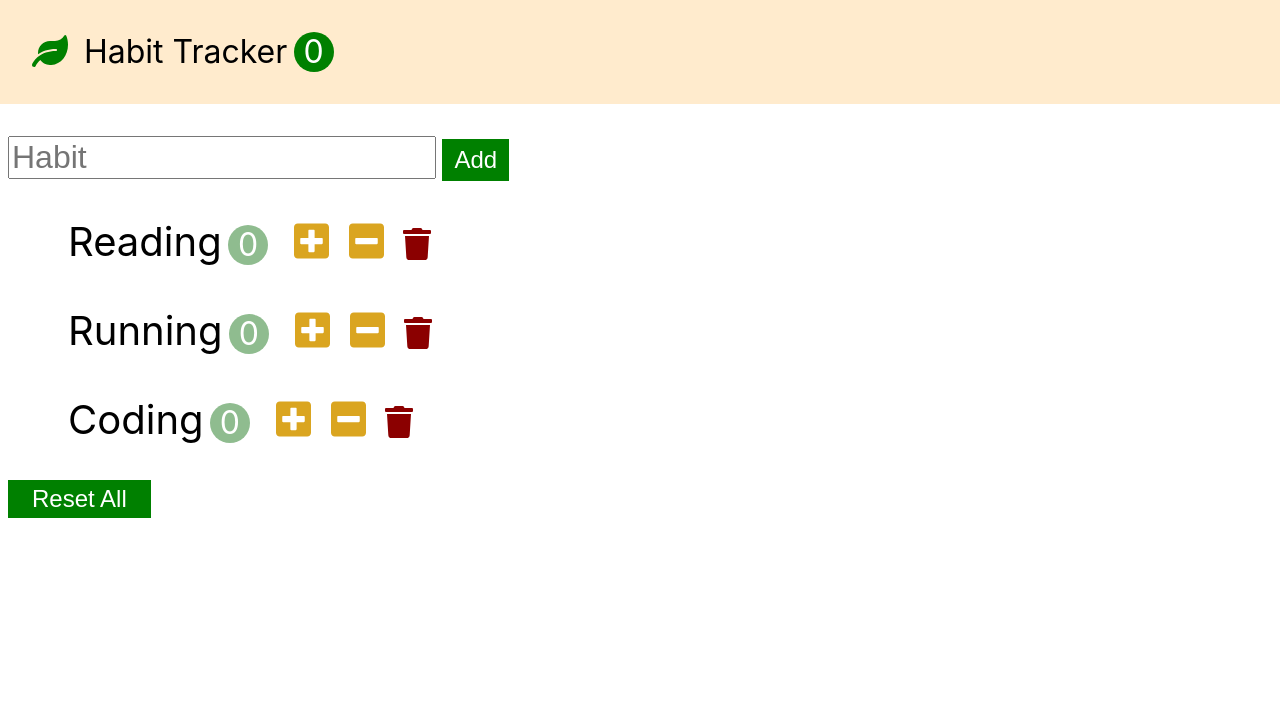
Scenario: Habit Tracker › decreases count
The image size is (1280, 720).
Click the button titled "increase" in the row of "Reading".
click(312, 243)  # box [288,219,335,266]
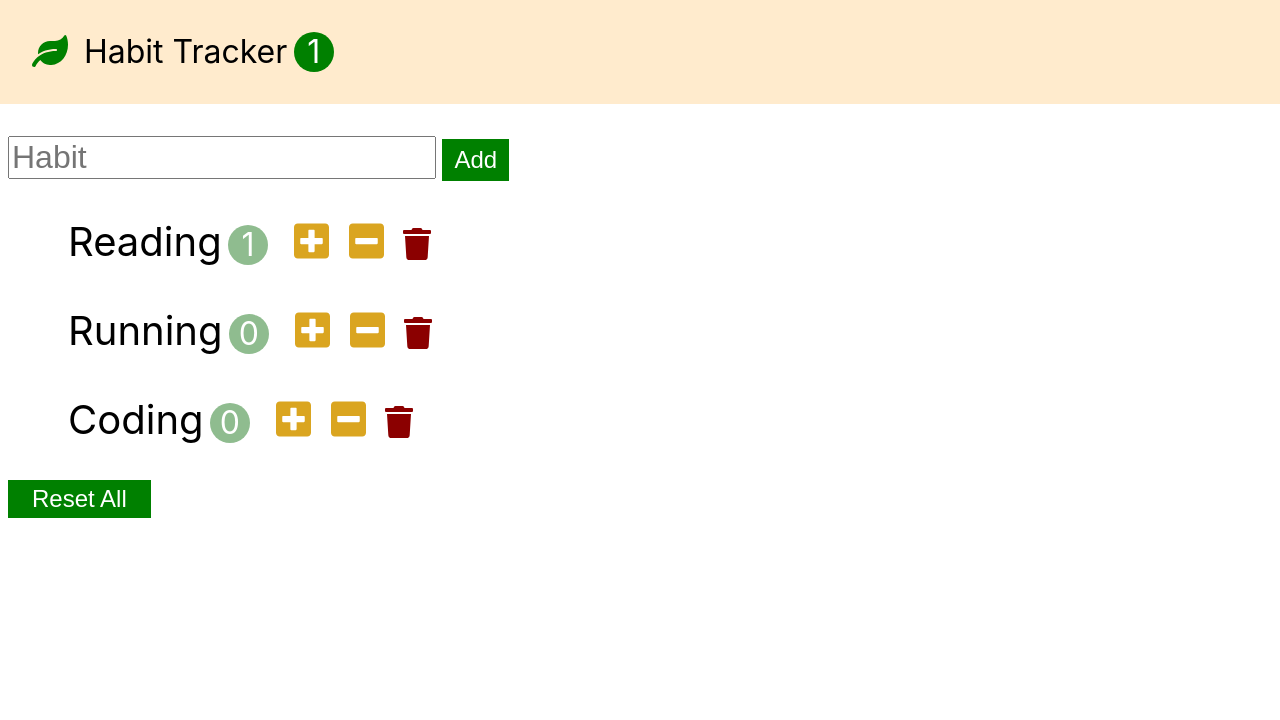
Click the button titled "increase" in the row of "Reading".
click(312, 243)  # box [288,219,335,266]
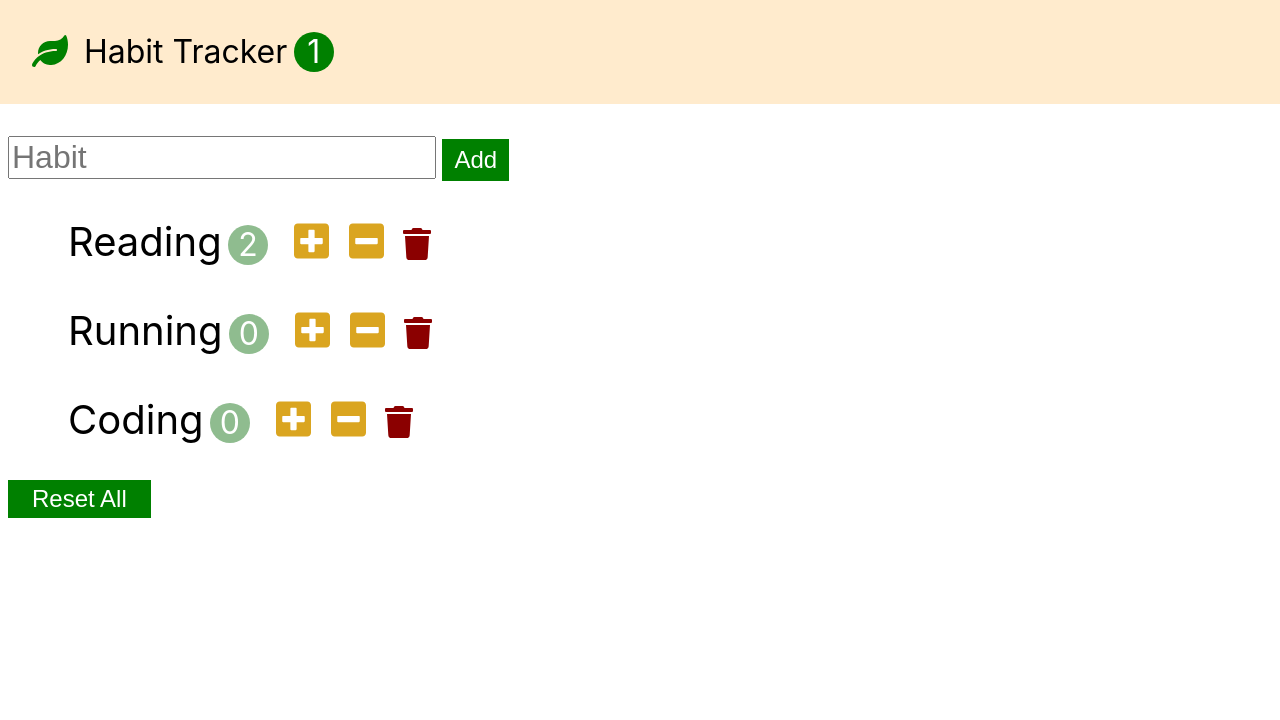
Click the button titled "increase" in the row of "Reading".
click(312, 243)  # box [288,219,335,266]
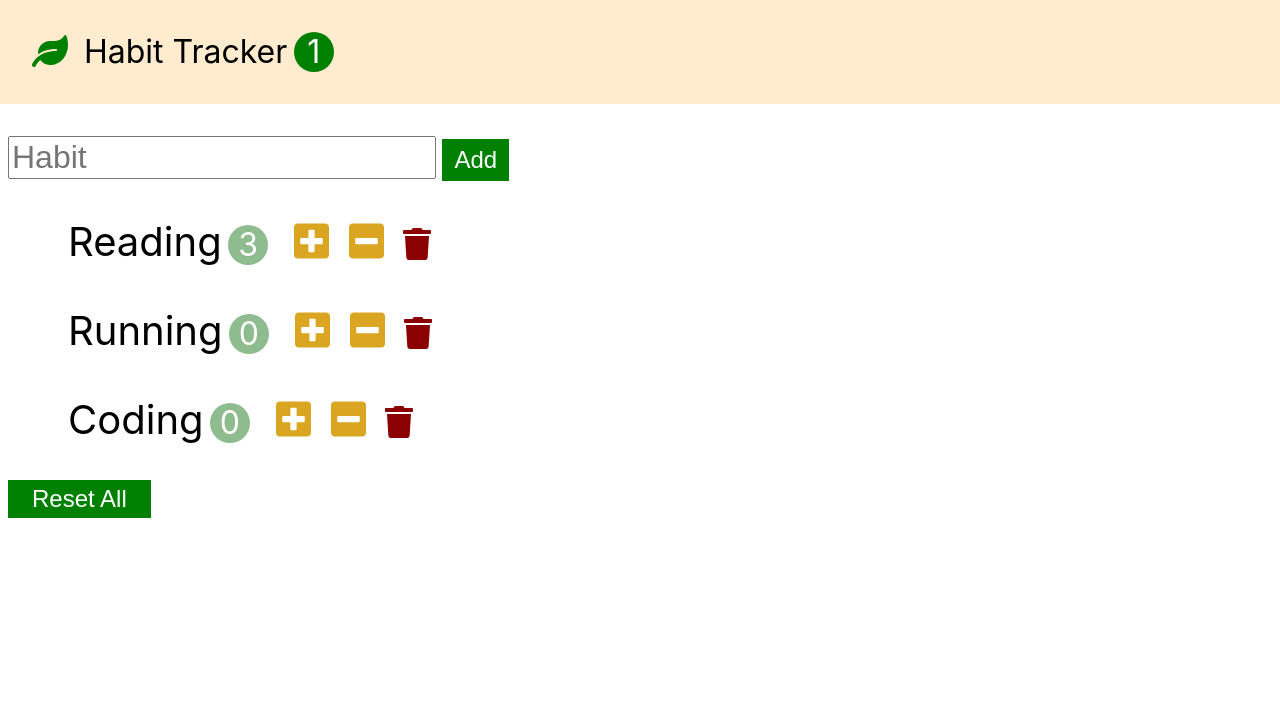
Click the button titled "increase" in the row of "Reading".
click(312, 243)  # box [288,219,335,266]
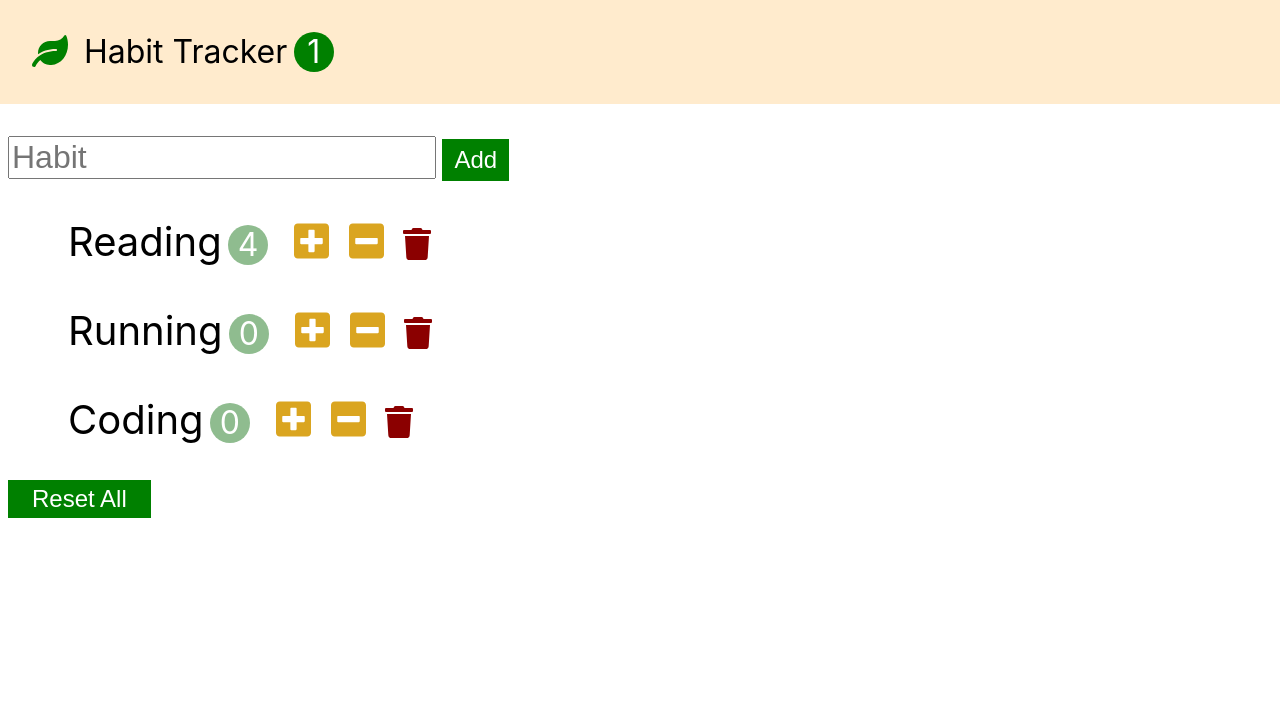
Click the button titled "decrease" in the row of "Reading".
click(367, 243)  # box [343,219,390,266]
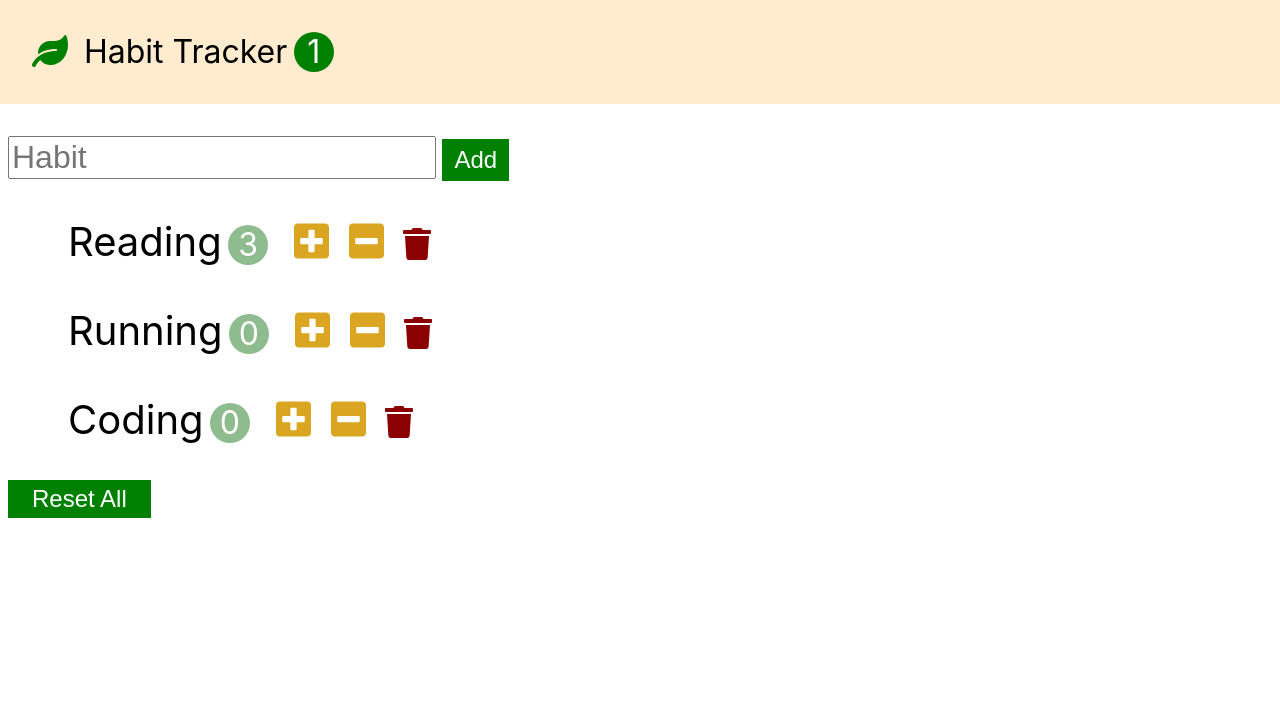
Expected: the text with test id "habit-count" reads "3", [228,225,268,265]
